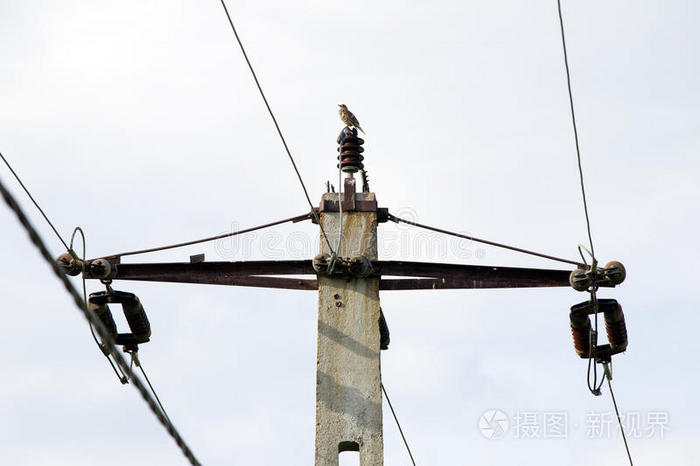insulator: (121, 298, 152, 339), (568, 316, 598, 354), (605, 309, 630, 354), (336, 135, 367, 170)
